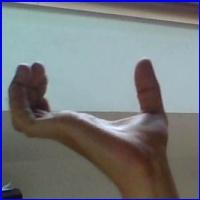B: (6, 47, 179, 181)
